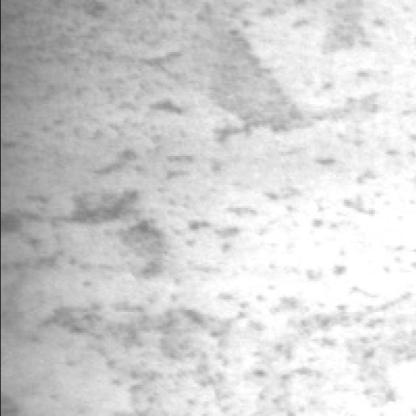pitted_surface: (58, 92, 372, 280), (37, 301, 407, 416)
